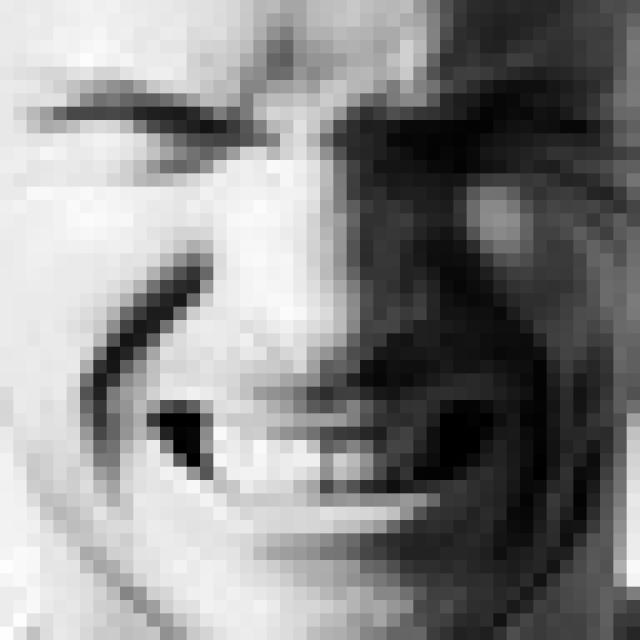angry: (30, 52, 611, 550)
